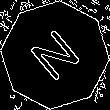N_SE: (23, 22, 87, 88)
